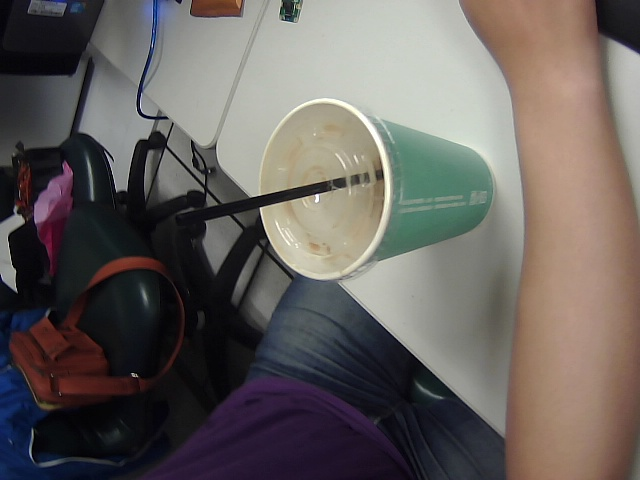beverage: (172, 96, 500, 322)
